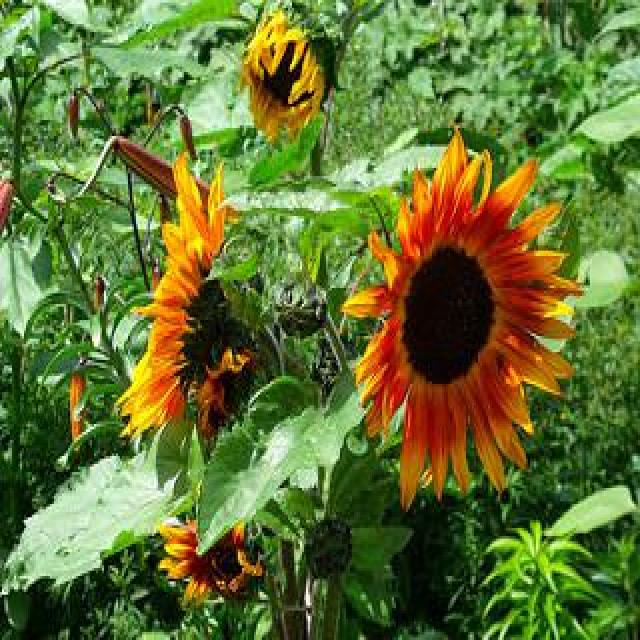sunflower: (346, 120, 576, 501), (118, 154, 256, 450), (240, 13, 330, 147)
